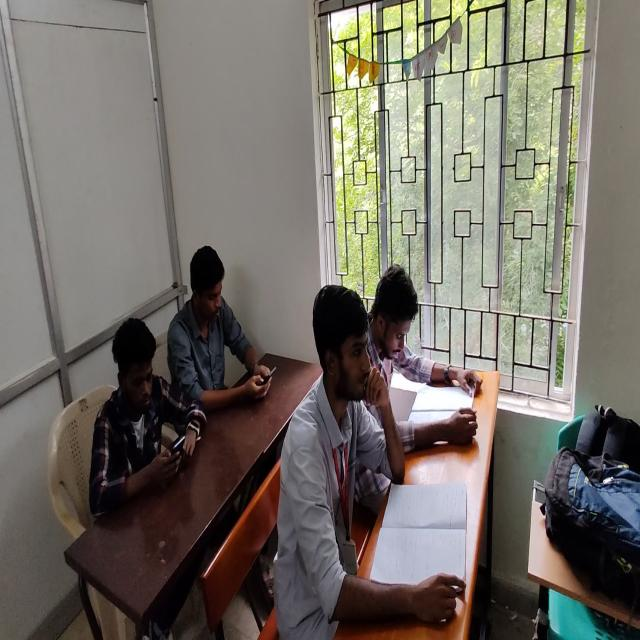reading: (286, 287, 431, 640), (364, 261, 477, 404)
using_mobile: (89, 315, 207, 516), (165, 246, 272, 425)
